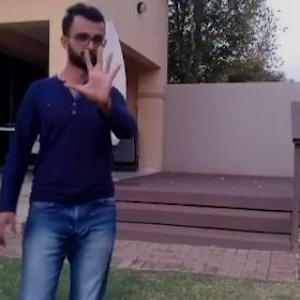follow_hand: (64, 35, 126, 106)
